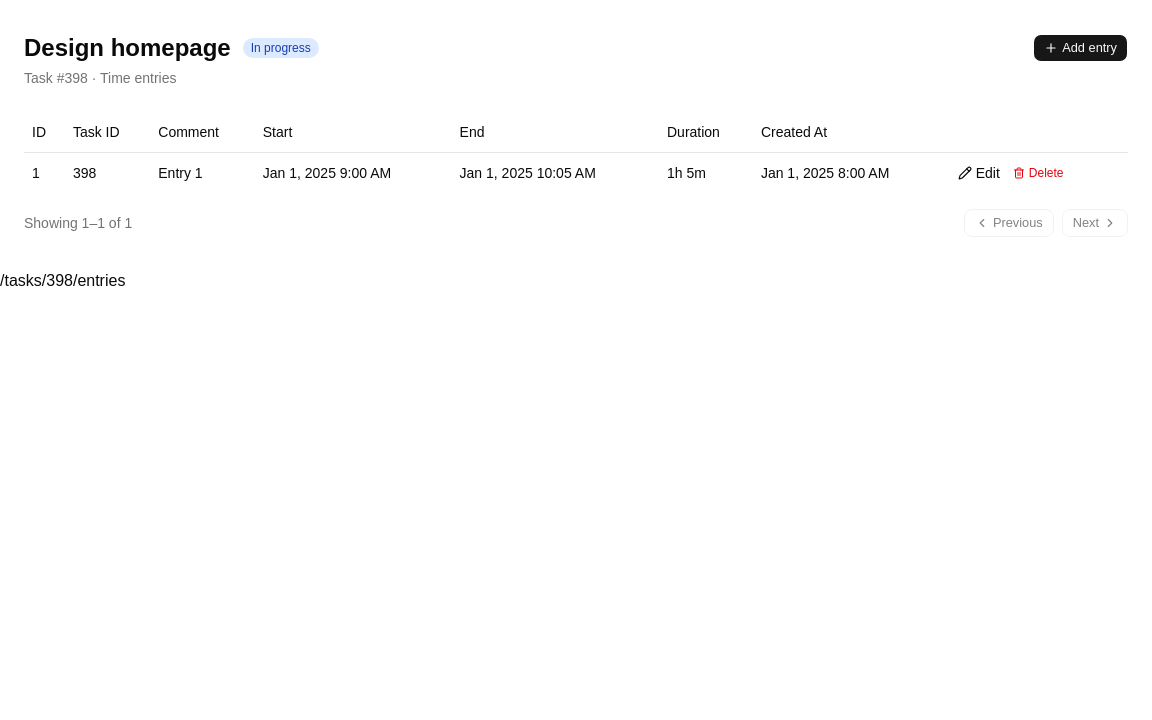
Test: TaskEntriesPage › deleting › shows the empty state after the last entry goes
This screenshot has width=1152, height=720.
Click the button named "Delete entry 1". click: (1038, 172)
box: [1004,160,1072,184]
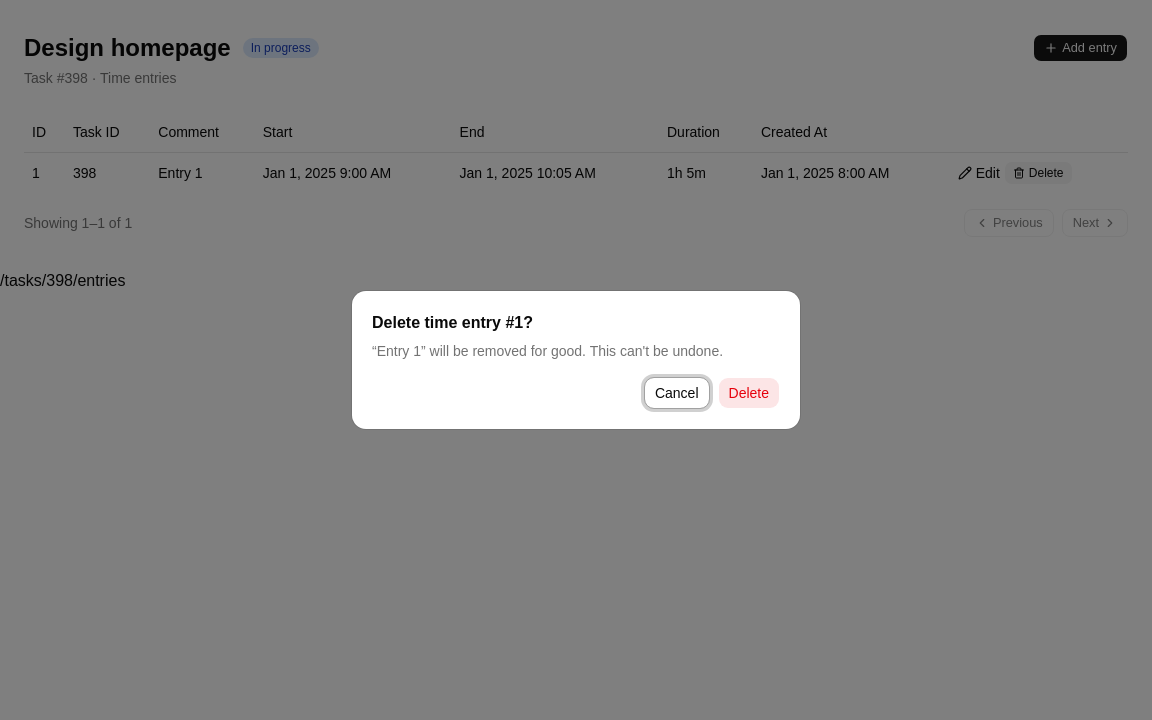
Click the button "Delete". click: (749, 393)
box: [718,377,780,409]
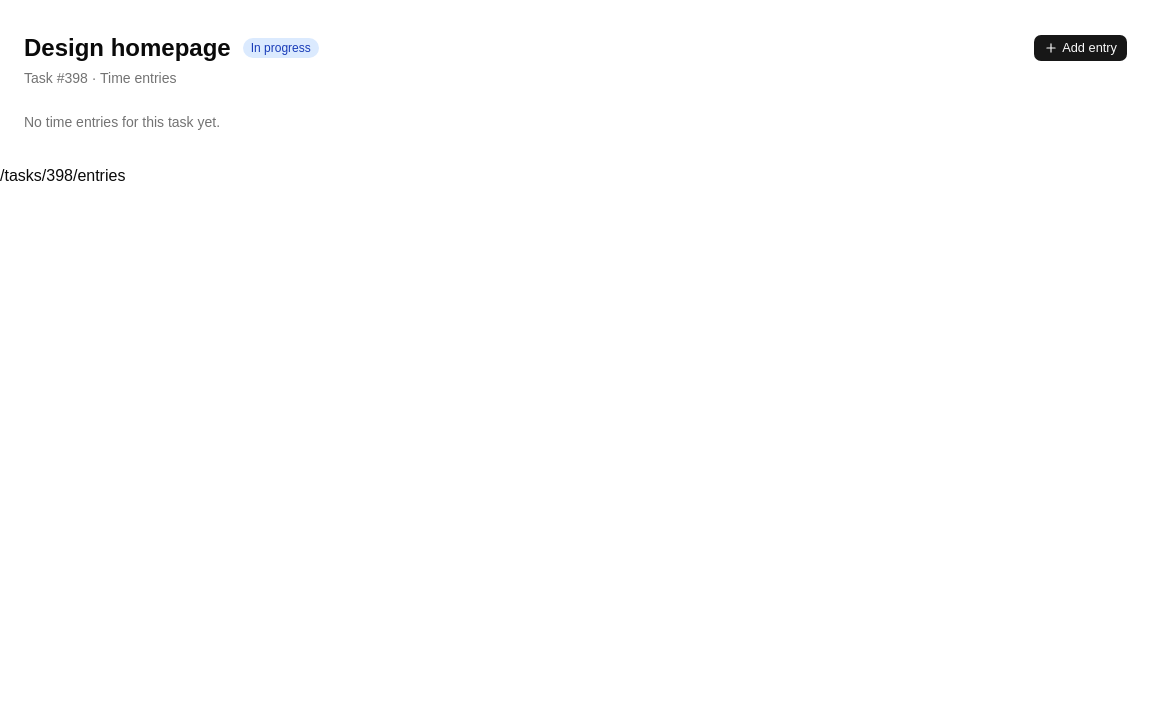
Check: the text "No time entries for this task yet." is shown, box [24,114,220,130]
